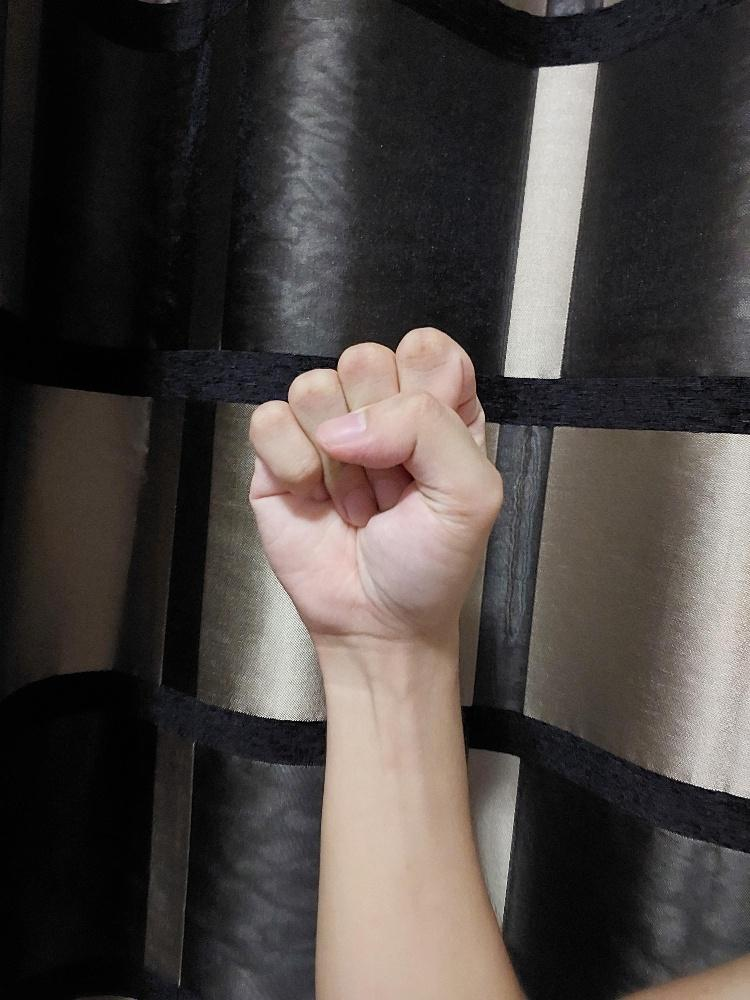s: (245, 325, 505, 643)
